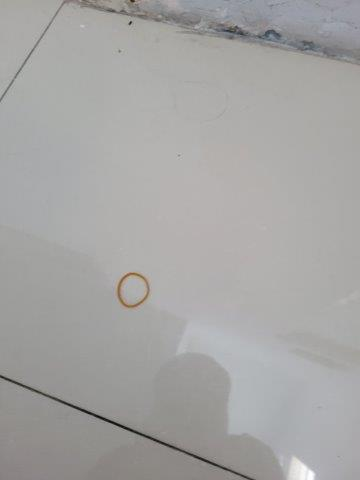karet: (116, 271, 151, 309)
